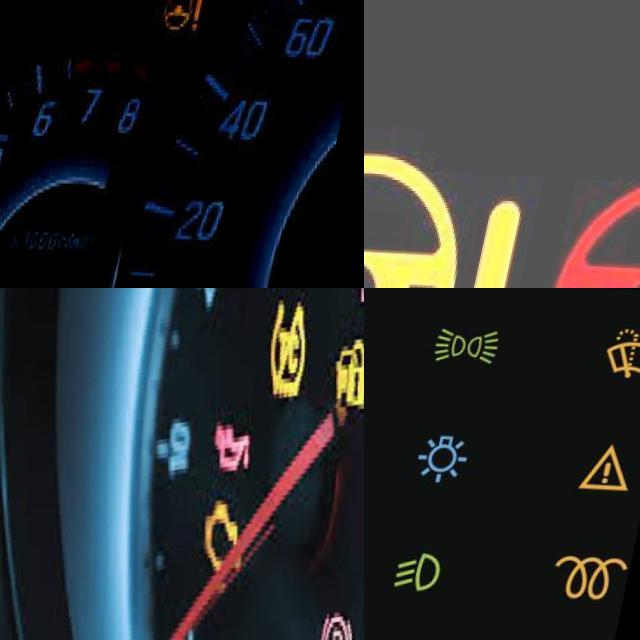Electronic Power Steering: (364, 147, 546, 288), (155, 0, 212, 30)
